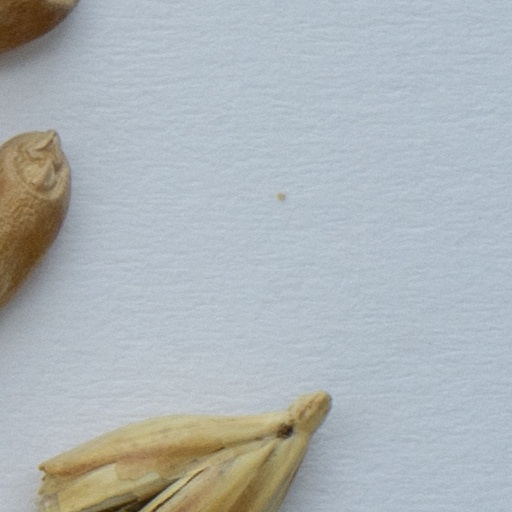Peel-poly: (32, 389, 329, 511)
